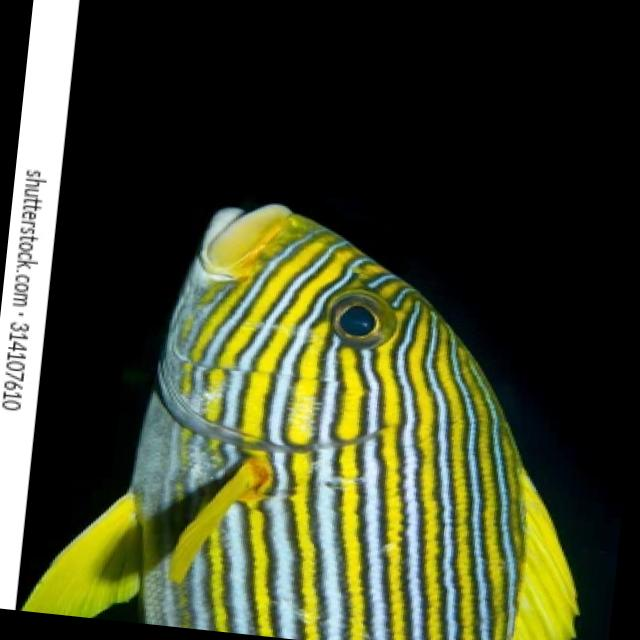RibbonedSweetlips: (18, 177, 622, 640)
